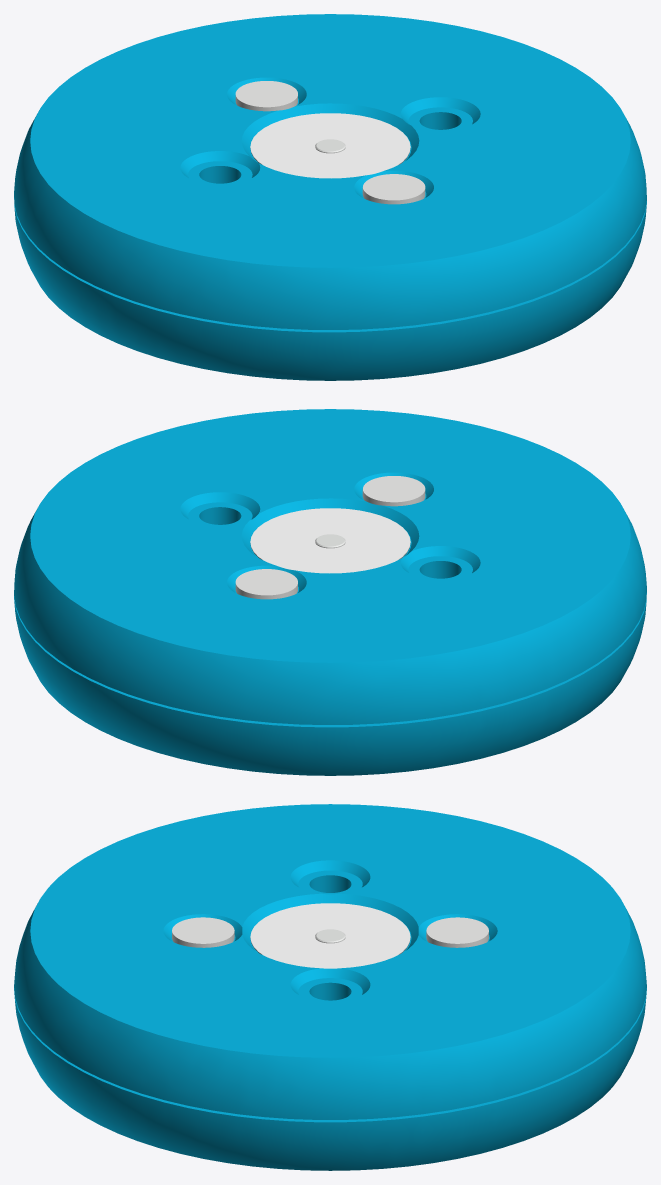
3 renders of one model, top to bottom at view 1: azimuth 30°, elevation 25°; view 2: azimuth 150°, elevation 25°; view 3: azimuth 270°, elevation 25°, orthographic.
Visible parts, largest first — view 1: main_0077c8, cad_ffffff, cad_d9d9d6; view 2: main_0077c8, cad_ffffff, cad_d9d9d6; view 3: main_0077c8, cad_ffffff, cad_d9d9d6.
Boxes of the visible parts, x1=… form: main_0077c8: x1=14, y1=14, x2=646, y2=380; cad_ffffff: x1=250, y1=113, x2=410, y2=178; cad_d9d9d6: x1=235, y1=81, x2=425, y2=204; main_0077c8: x1=14, y1=409, x2=646, y2=775; cad_ffffff: x1=250, y1=508, x2=410, y2=573; cad_d9d9d6: x1=235, y1=476, x2=425, y2=599; main_0077c8: x1=14, y1=804, x2=646, y2=1170; cad_ffffff: x1=250, y1=903, x2=410, y2=968; cad_d9d9d6: x1=172, y1=917, x2=488, y2=947.
Bounding box in the file's own units: 63.14 × 12.49 × 63.2.
